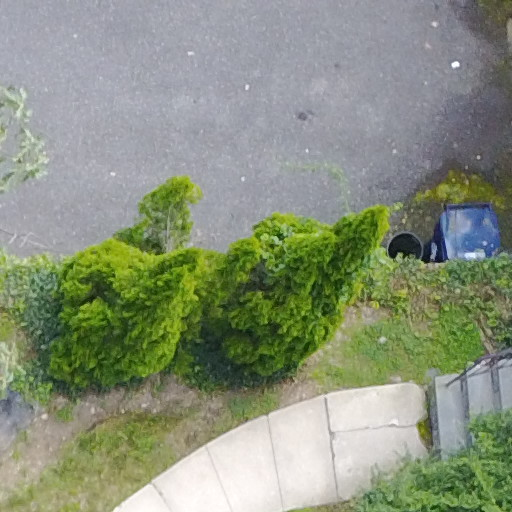trash bin: (435, 200, 512, 271), (386, 225, 431, 287)
